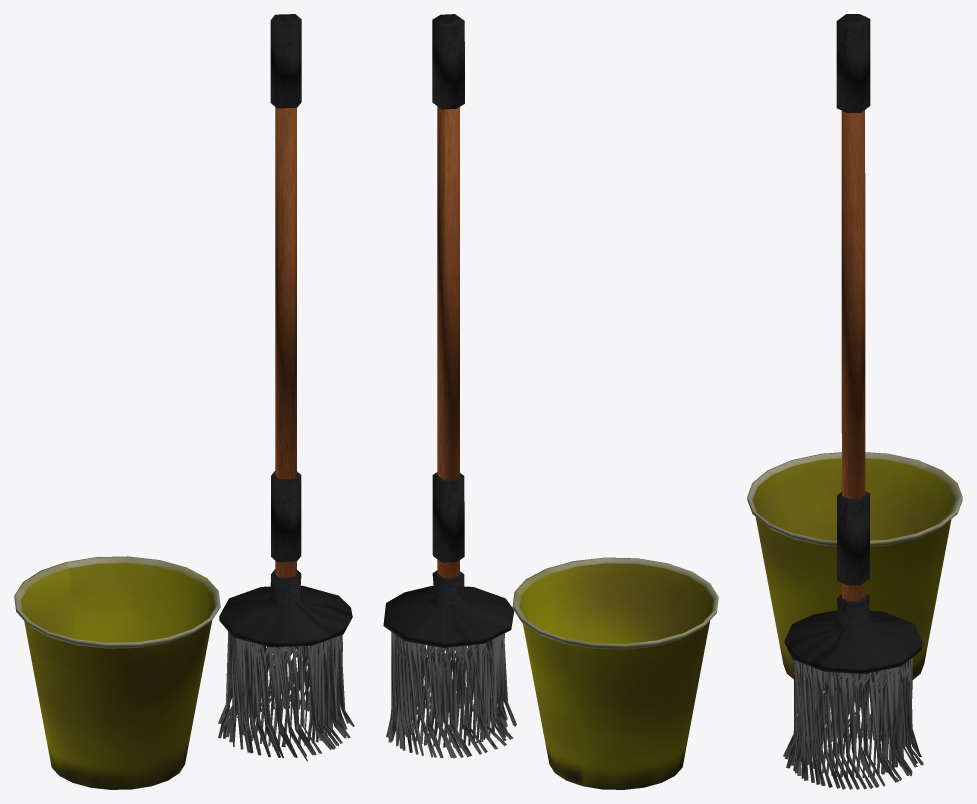
File: mop.glb
The picture shows the model from 3 angles, left to right: view 1: azimuth 30°, elevation 25°; view 2: azimuth 150°, elevation 25°; view 3: azimuth 270°, elevation 25°; orthographic projection. The views are drawn at different scales.
Parts seen in each view (by area): view 1: Cylinder.004, BézierCurve.003; view 2: Cylinder.004, BézierCurve.003; view 3: BézierCurve.003, Cylinder.004.
Boxes of the visible parts, x1=… form: Cylinder.004: x1=14, y1=556, x2=220, y2=789; BézierCurve.003: x1=218, y1=14, x2=354, y2=761; Cylinder.004: x1=512, y1=557, x2=718, y2=789; BézierCurve.003: x1=383, y1=14, x2=516, y2=758; BézierCurve.003: x1=783, y1=14, x2=923, y2=789; Cylinder.004: x1=747, y1=452, x2=962, y2=691.
Size of the model in its own units: 1.68 by 3.64 by 0.9549.
Materials: 4 (3 with a texture image).
